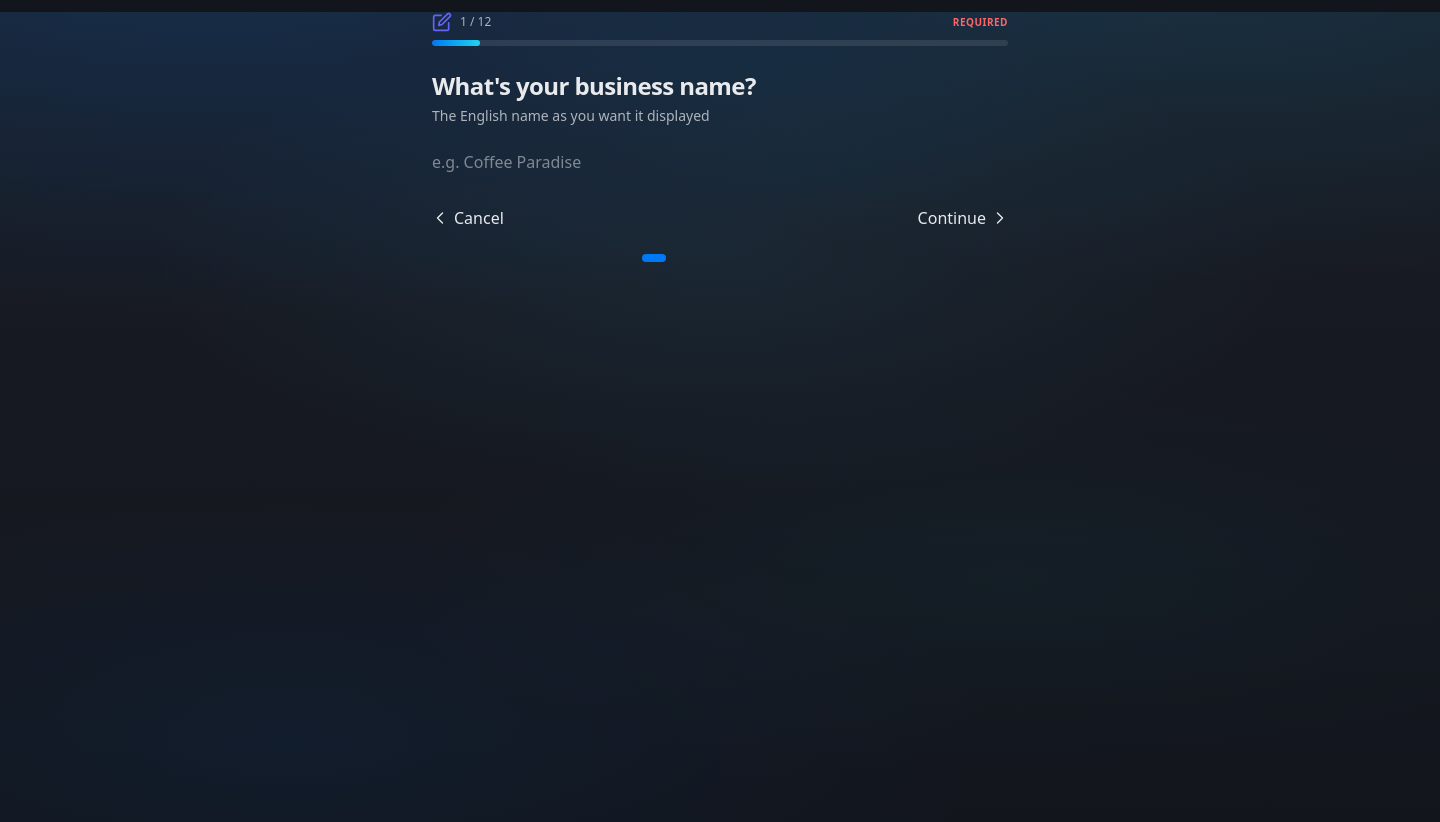
Test case: BusinessRequestForm conversational flow › advances through name slides to category
Slide 1: English name
Type "Coffee House" into the field with placeholder "e.g. Coffee Paradise" at (548, 162), box [432,150,663,174]
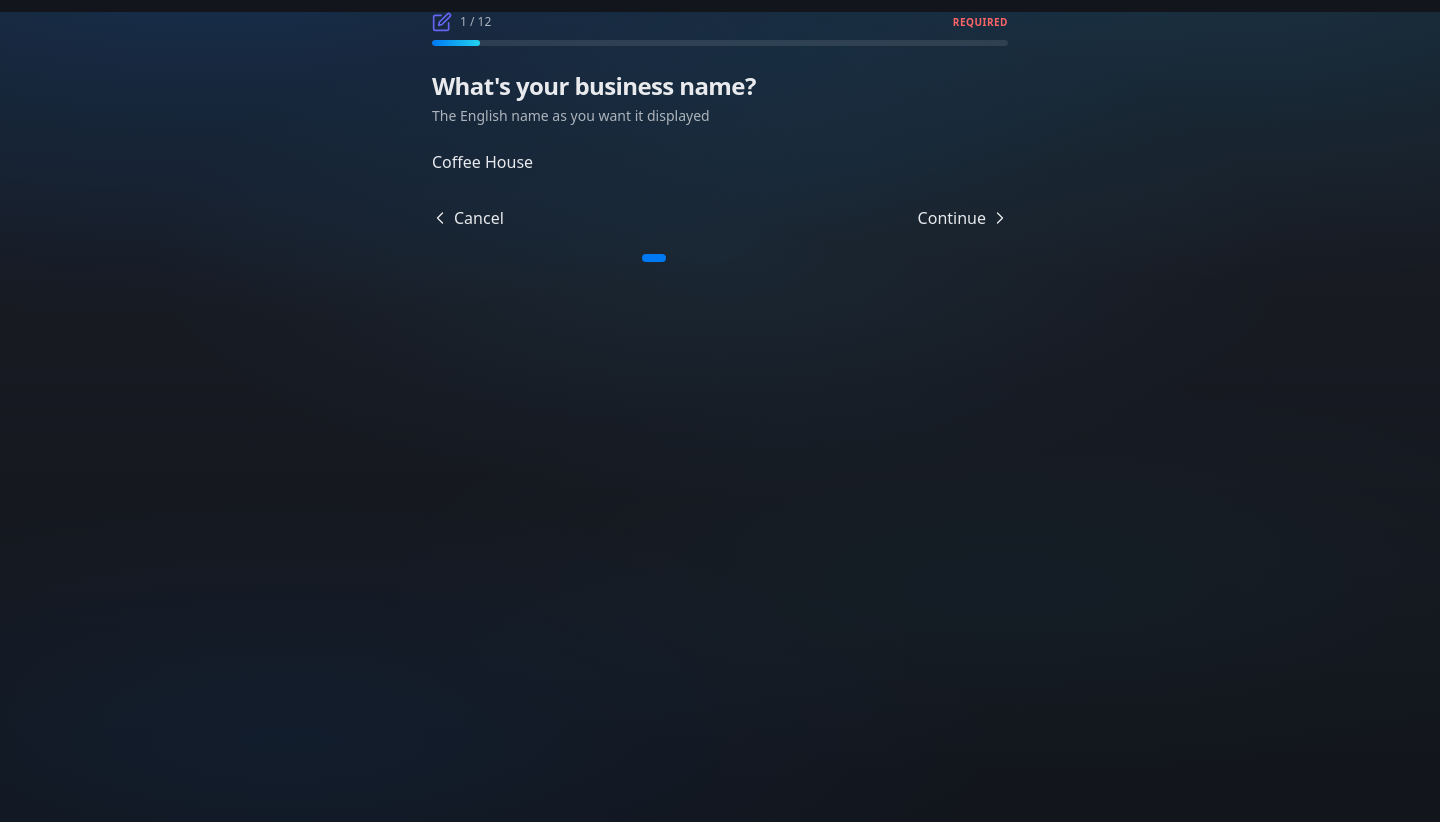
Click the button "Continue" at (963, 218), box [918,206,1008,230]
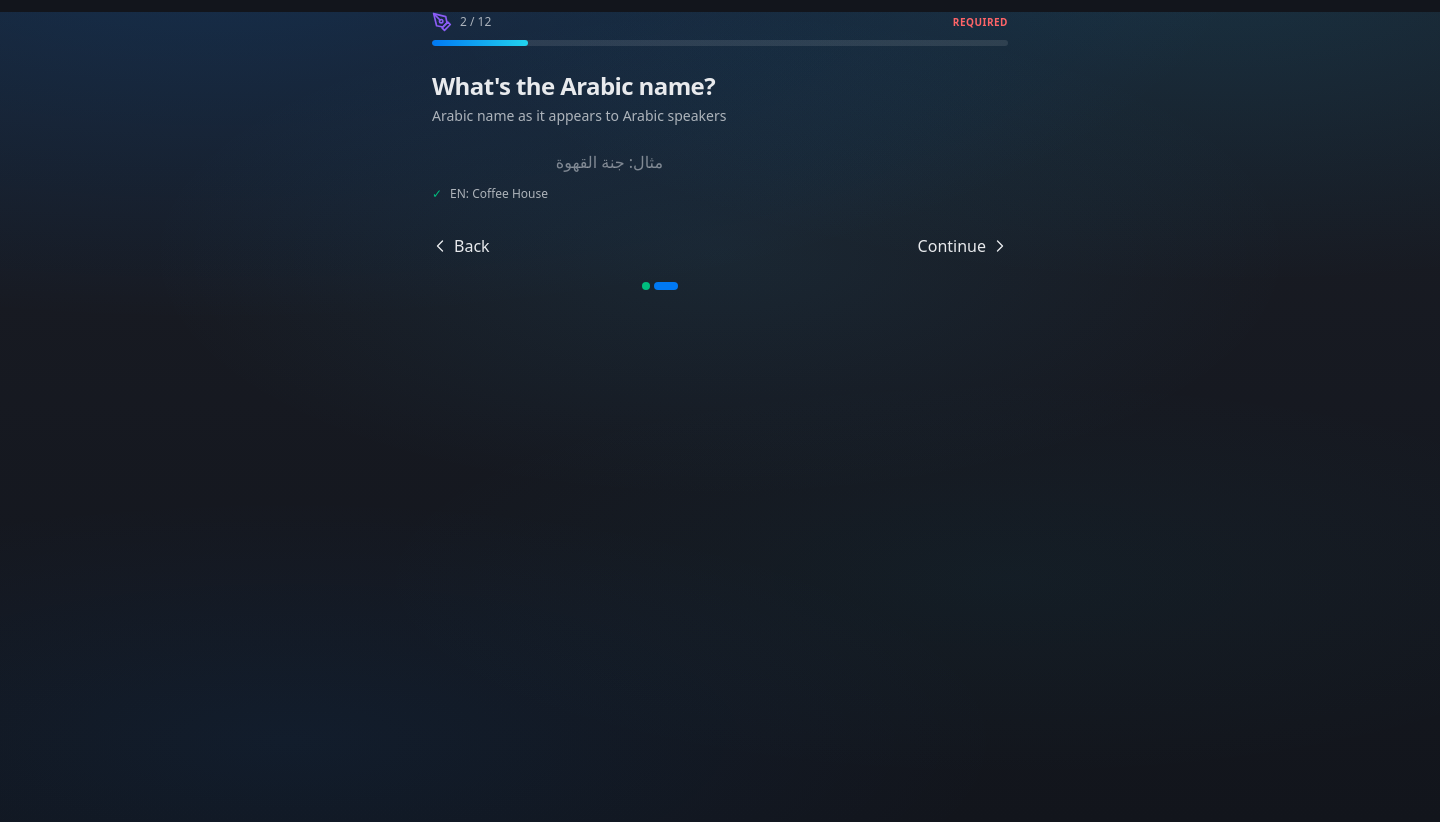
Expected: the field with placeholder "مثال: جنة القهوة" is shown
Type "بيت القهوة" into the field with placeholder "مثال: جنة القهوة" at (548, 162), box [432,150,663,174]
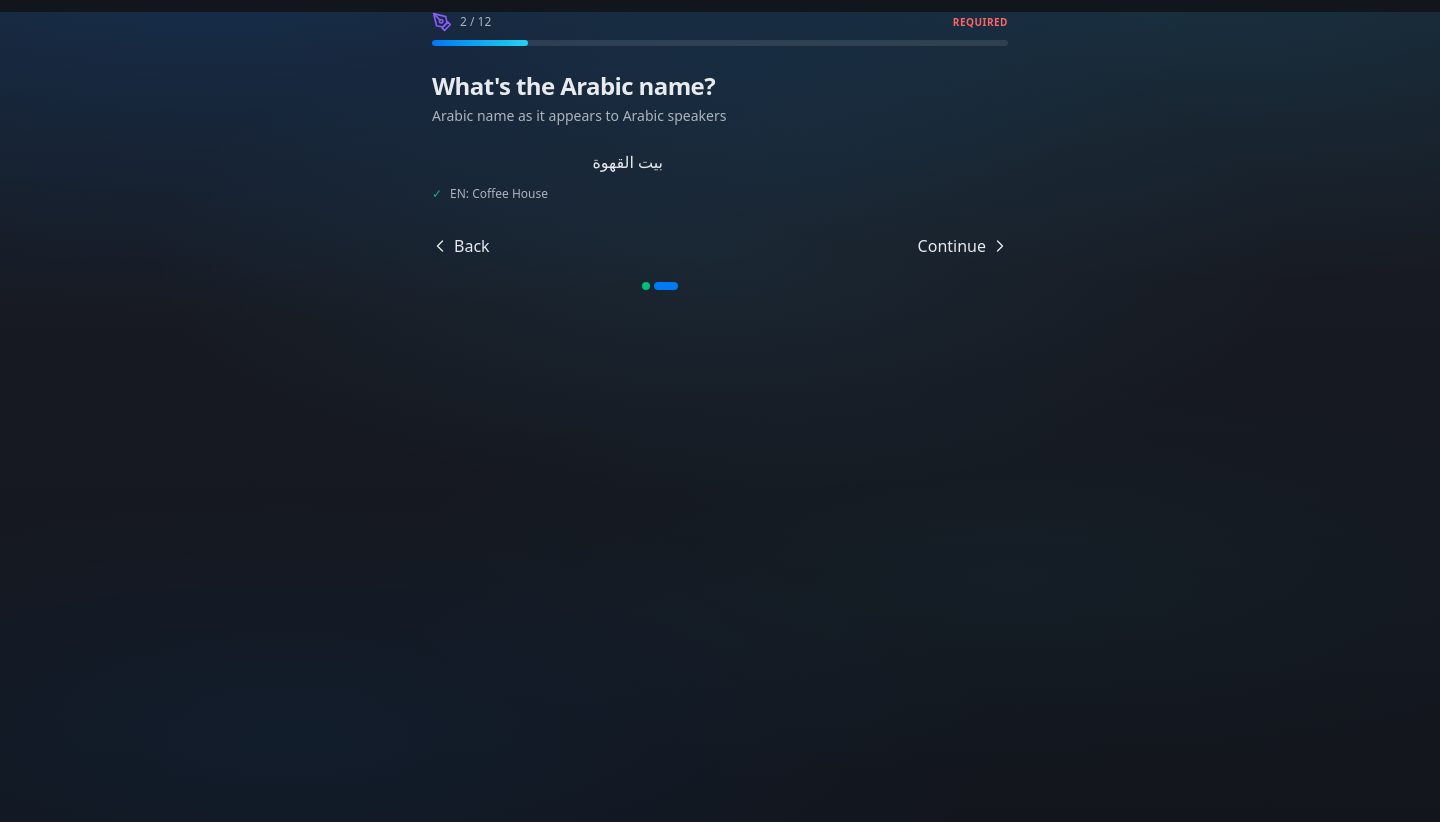
Click the button "Continue" at (963, 246), box [918,234,1008,258]
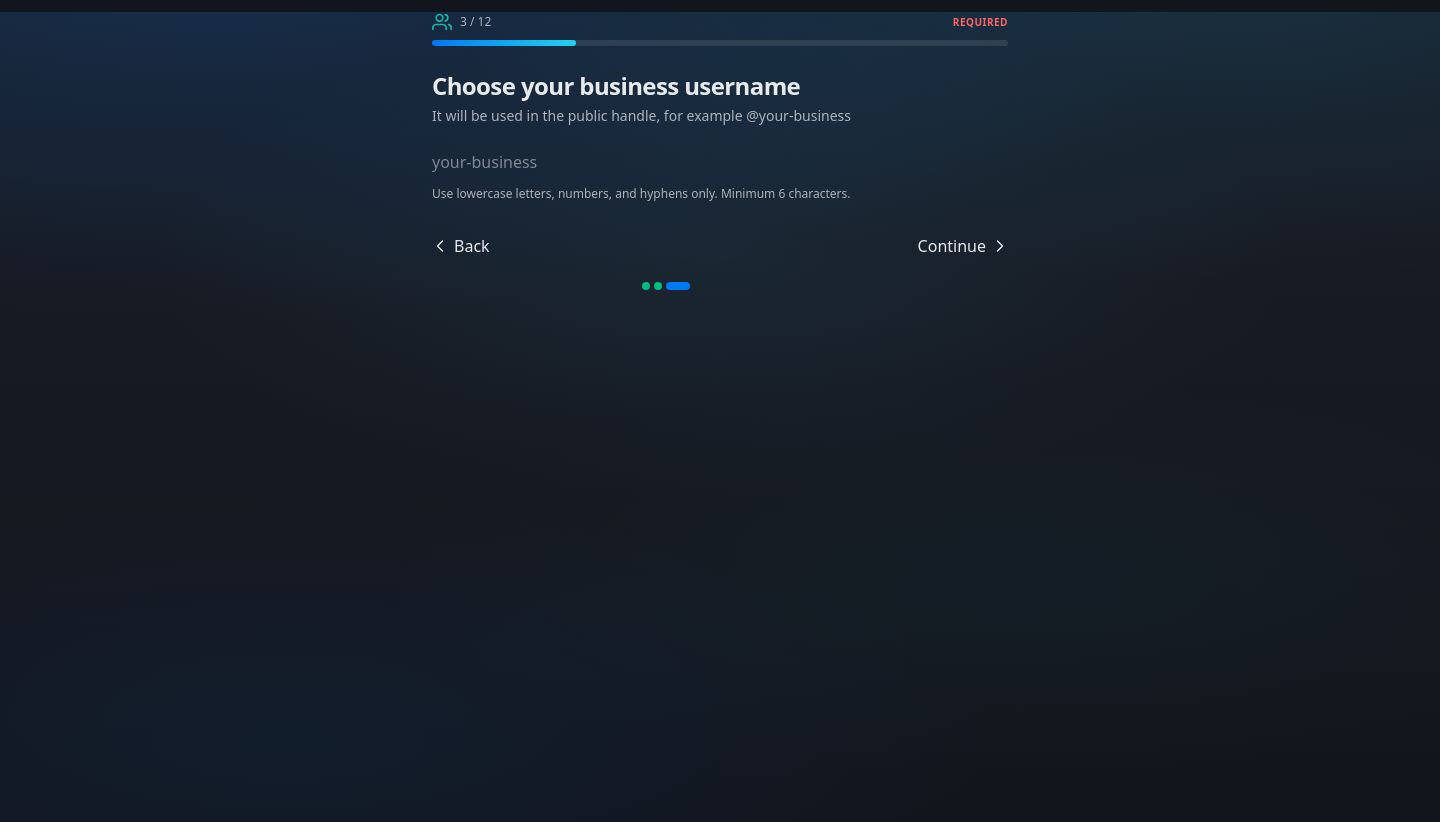
Expected: the field with placeholder "your-business" is shown
Type "coffee-house" into the field with placeholder "your-business" at (548, 162), box [432,150,663,174]
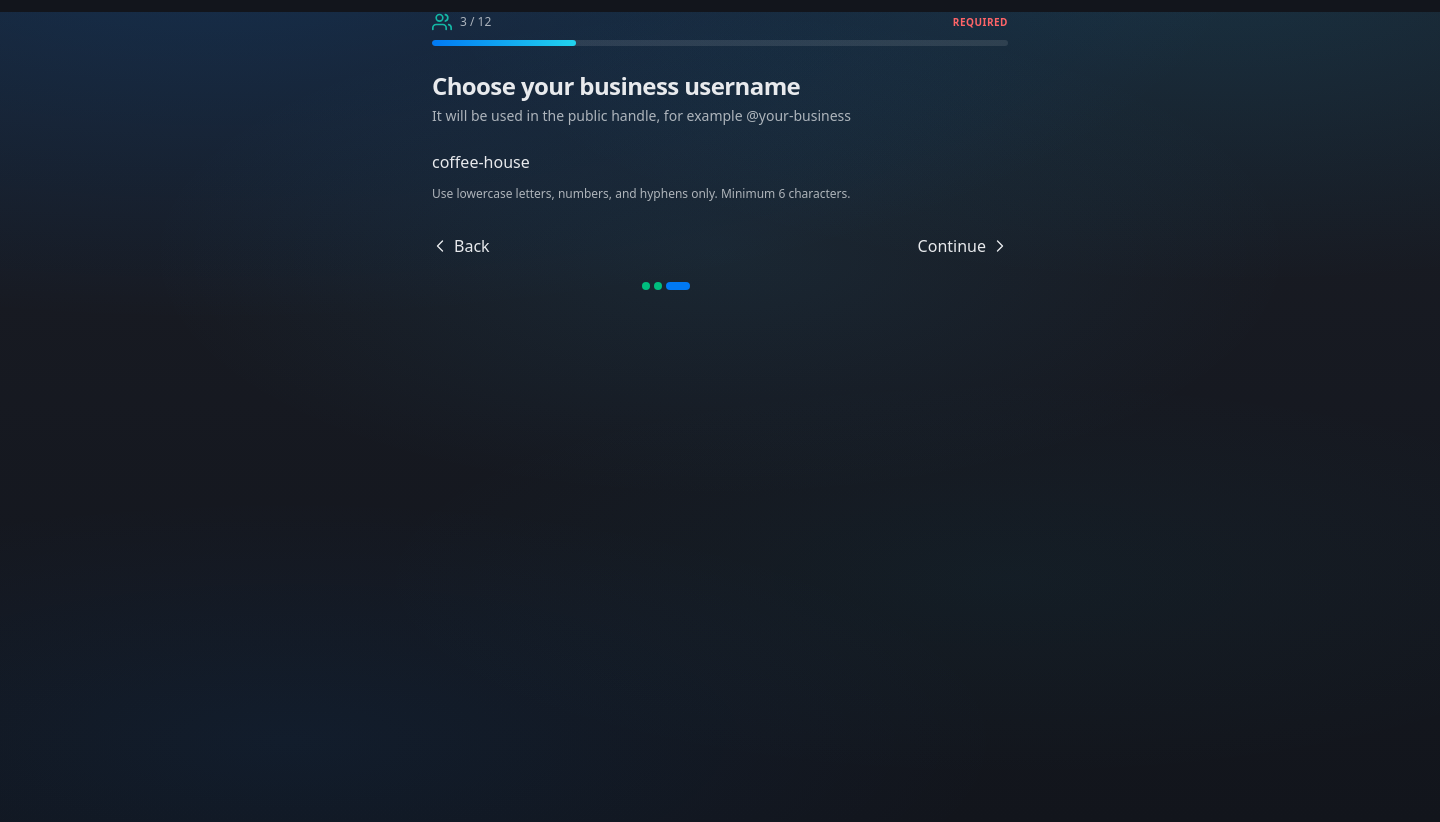
Click the button "Continue" at (963, 246), box [918,234,1008,258]
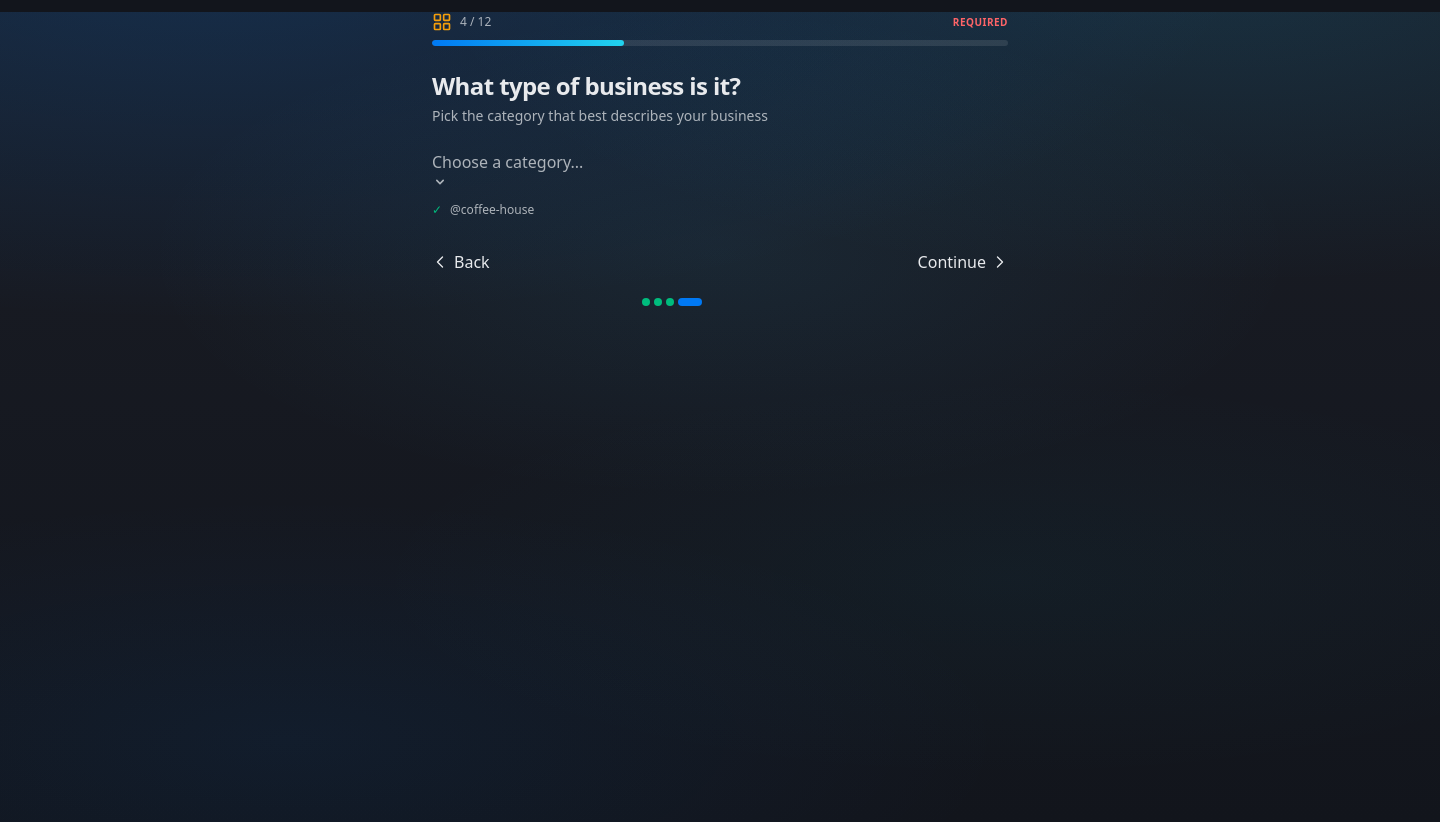
Expected: the heading "What type of business is it?" is shown, [432,69,740,102]
